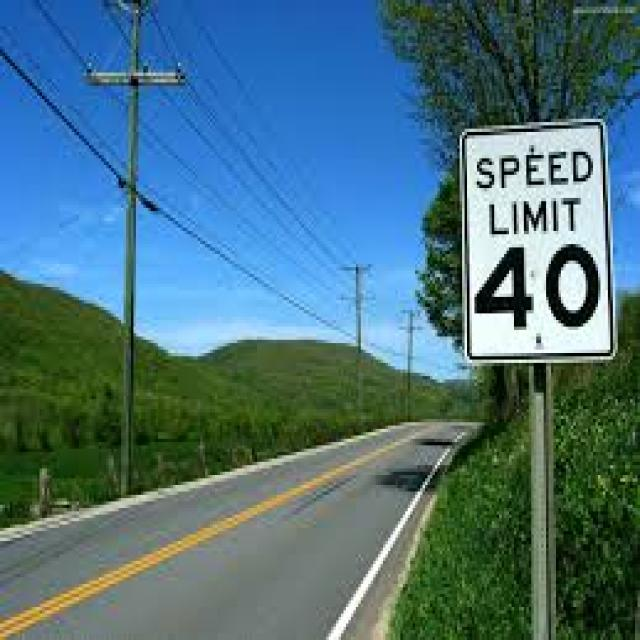speedLimit40: (470, 142, 606, 336)
